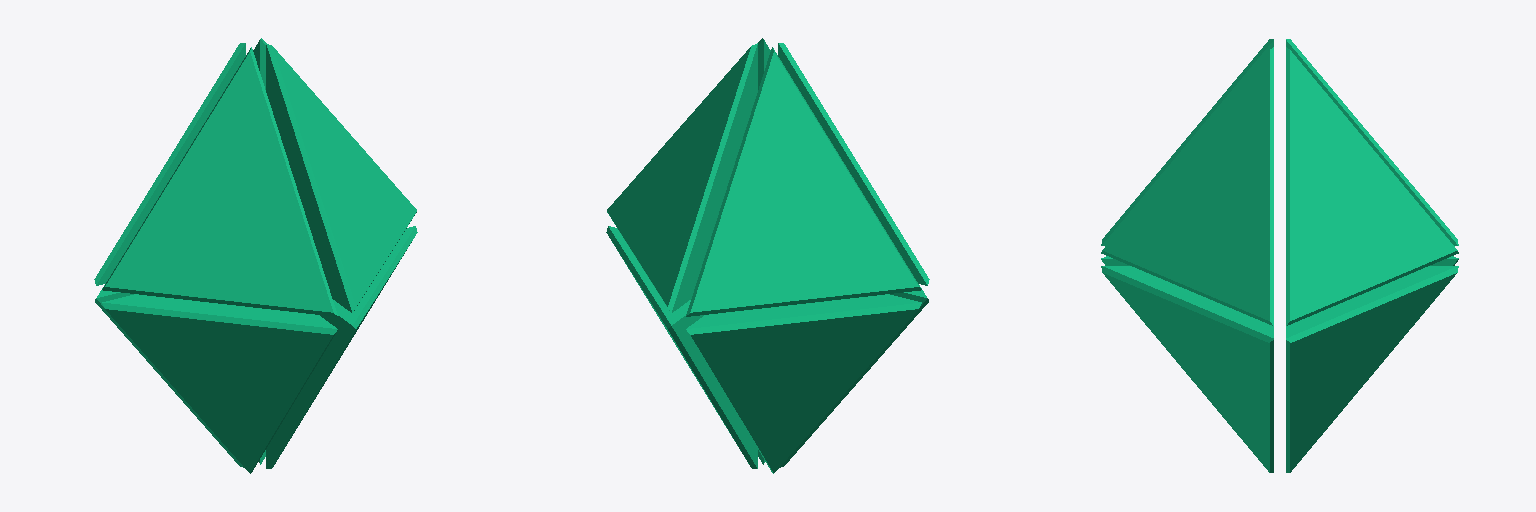
Rendered from player_001.obj.
3 renders of one model, left to right at view 1: azimuth 30°, elevation 25°; view 2: azimuth 150°, elevation 25°; view 3: azimuth 270°, elevation 25°, orthographic.
Parts seen in each view (by area): view 1: 立方体_立方体.001; view 2: 立方体_立方体.001; view 3: 立方体_立方体.001.
Part boxes in pixels (left/top/right/bottom): 立方体_立方体.001: left=94, top=38, right=417, bottom=473; 立方体_立方体.001: left=606, top=38, right=929, bottom=473; 立方体_立方体.001: left=1101, top=39, right=1458, bottom=472.
Size of the model in its own units: 2 by 2.59 by 1.97.